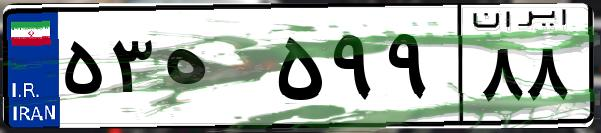3: (110, 28, 158, 98)
5: (270, 28, 330, 110), (57, 26, 110, 100)
8: (475, 38, 525, 113), (525, 38, 570, 115)
9: (385, 28, 445, 110), (330, 28, 385, 110)
ه: (158, 20, 270, 120)
